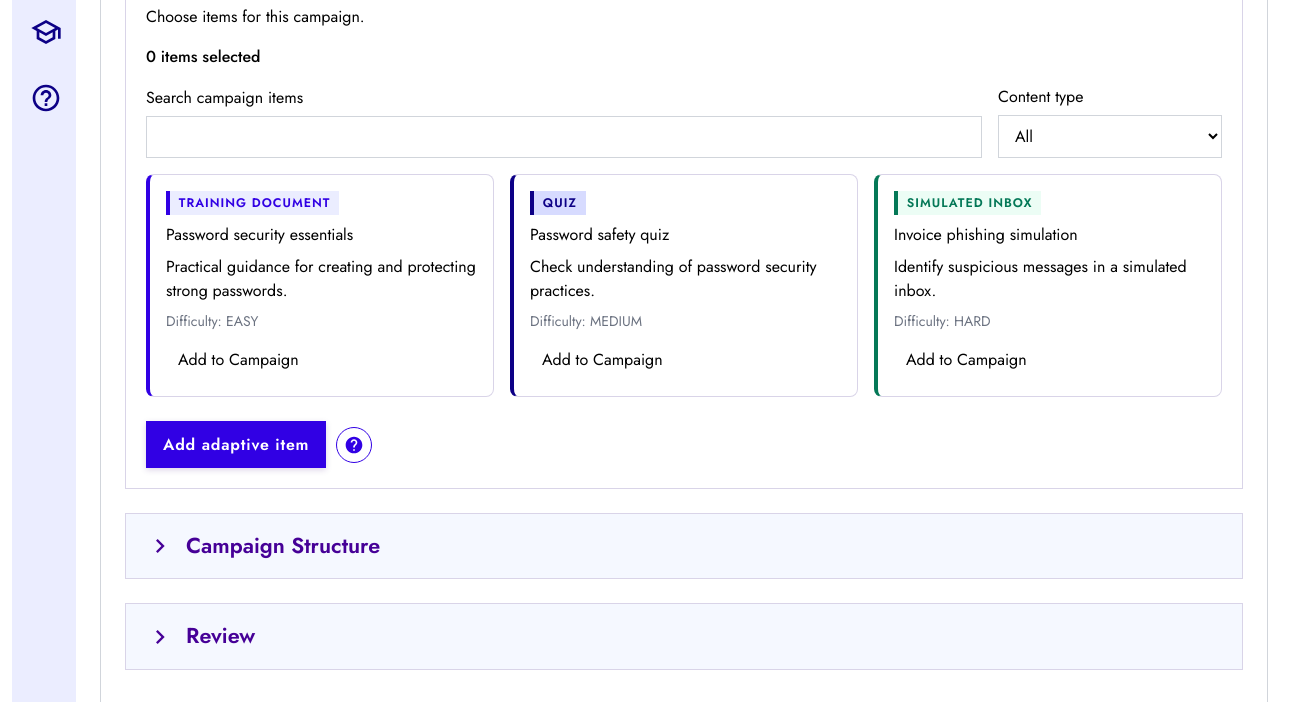
Scenario: CampaignManagementDetailPage catalogue › marks a selected catalogue item and prevents reselection
(page scrolled)
Click the button with aria-label "Add Password security essentials to Campaign": (238, 360) [166,340,311,380]
(page scrolled)
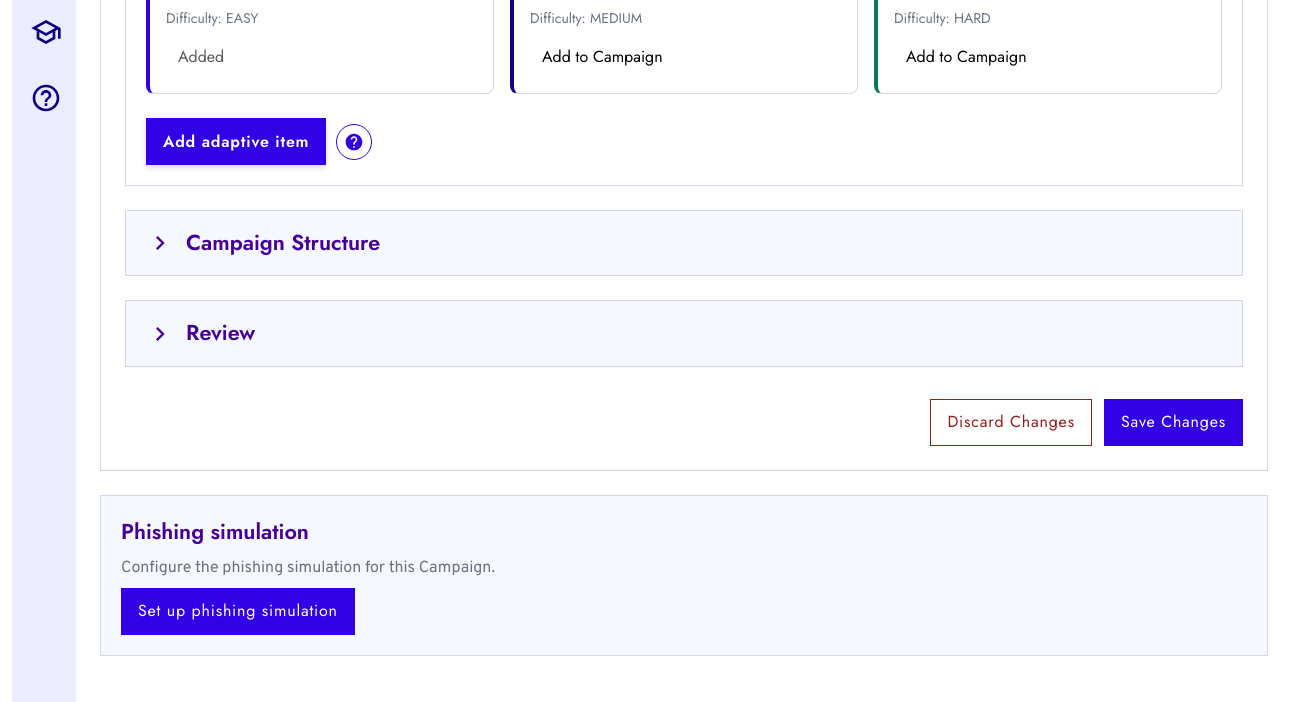
Expected: the button with aria-label "Password security essentials added" is disabled, [166,37,236,77]
Expected: the button "Discard Changes" is enabled, [930,399,1092,446]
